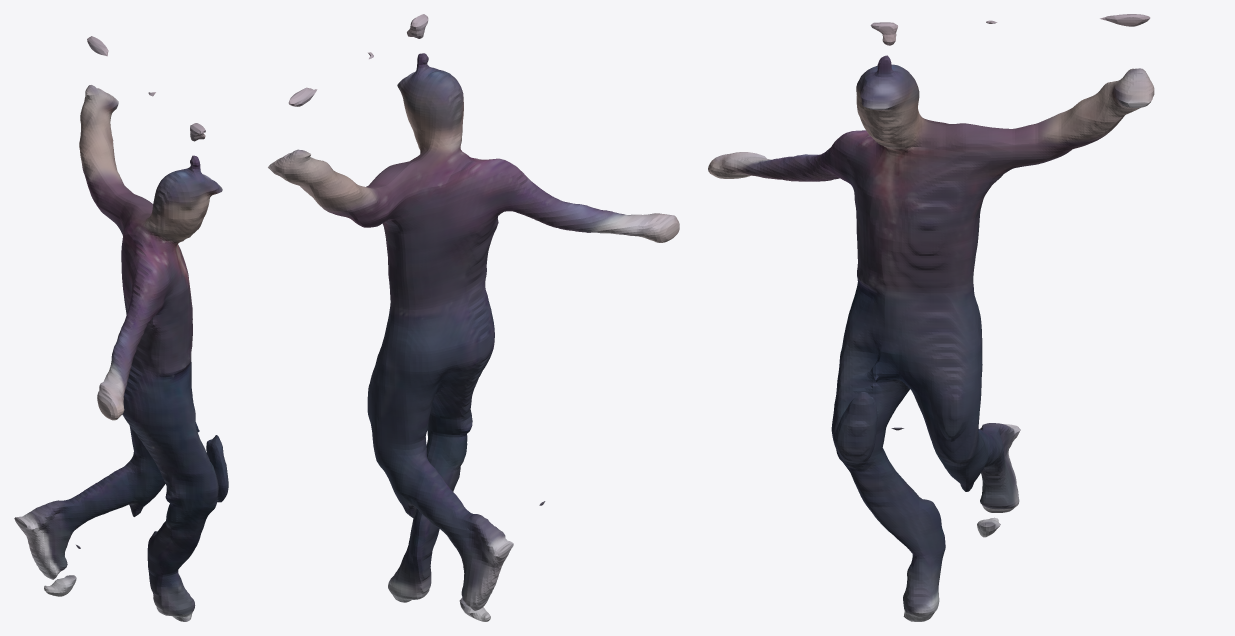
The model's file is 0040_tex.glb.
3 views of the same model, side by side, from view 1: azimuth 30°, elevation 25°; view 2: azimuth 150°, elevation 25°; view 3: azimuth 270°, elevation 25° (orthographic). The views are drawn at different scales.
Parts seen in each view (by area): view 1: 0040_tex.obj; view 2: 0040_tex.obj; view 3: 0040_tex.obj.
Part boxes in pixels (left/top/right/bottom): 0040_tex.obj: left=14, top=36, right=228, bottom=621; 0040_tex.obj: left=268, top=14, right=679, bottom=621; 0040_tex.obj: left=708, top=14, right=1154, bottom=621.
Bounding box in the file's own units: 0.3384 × 0.9043 × 0.6913.
